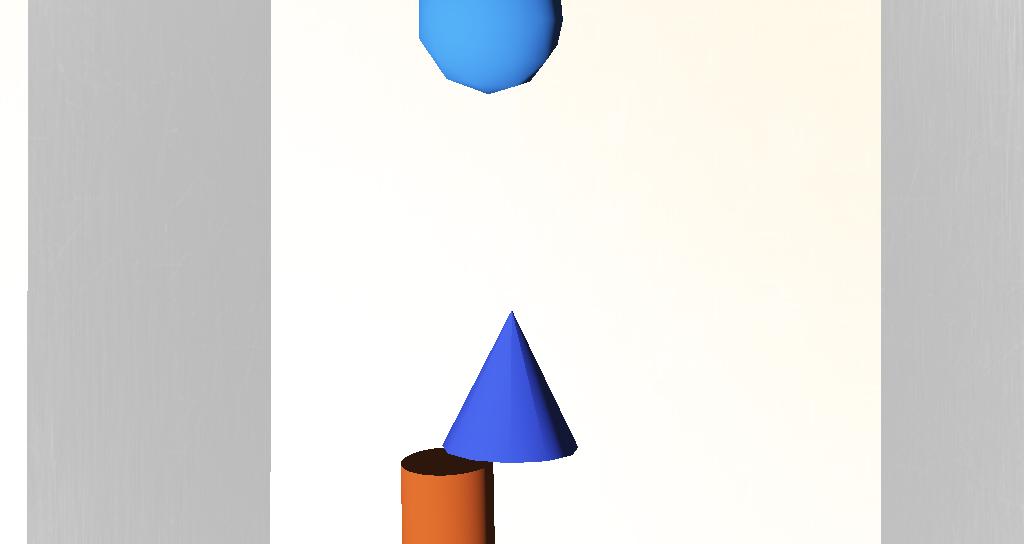cone: (421, 329, 468, 377)
cylinder: (441, 279, 502, 332)
sphere: (435, 162, 495, 210)
